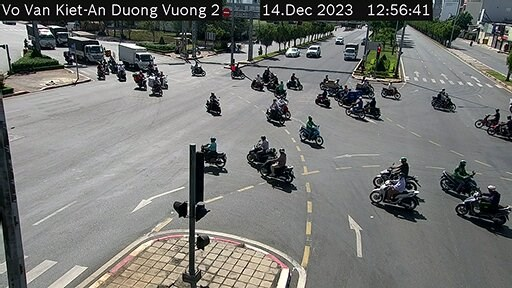car: (308, 39, 325, 61)
motorbike: (373, 173, 415, 214), (462, 182, 499, 223), (379, 146, 417, 185), (261, 144, 297, 185), (195, 134, 231, 166), (447, 155, 474, 197), (429, 85, 458, 117), (306, 113, 329, 150), (341, 92, 366, 125), (248, 130, 271, 163), (286, 69, 311, 99), (325, 80, 354, 102), (203, 89, 225, 115), (313, 88, 336, 112), (476, 105, 496, 132), (354, 77, 375, 98), (383, 82, 400, 103), (189, 56, 208, 73), (319, 76, 332, 100), (284, 44, 299, 62), (230, 62, 244, 81)
truck: (67, 35, 115, 65), (117, 42, 159, 74), (342, 40, 362, 63)
